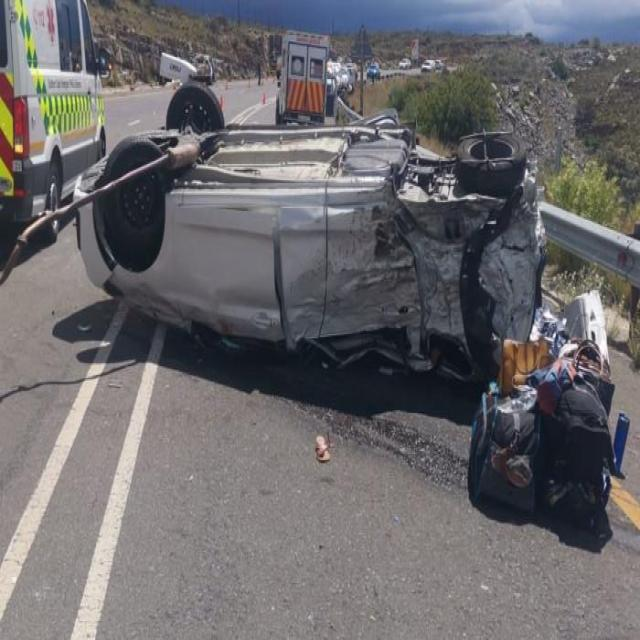severe: (68, 70, 545, 382)
